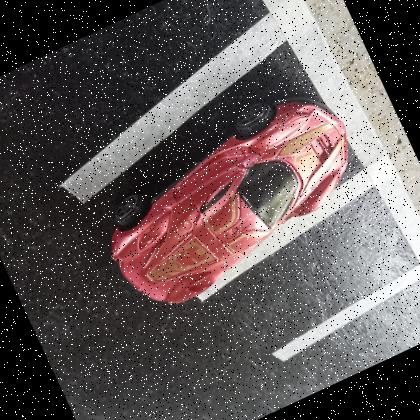Car: (110, 94, 349, 303)
